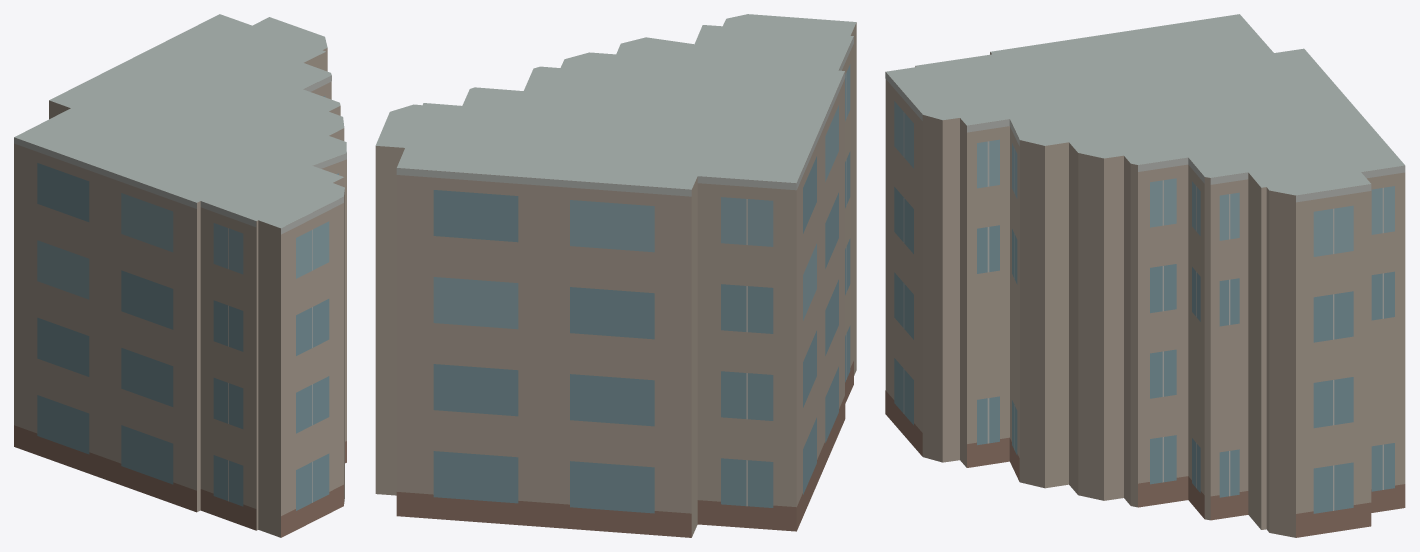
File: survey-upis-32625731.glb
3 renders of one model, left to right at view 1: azimuth 30°, elevation 25°; view 2: azimuth 150°, elevation 25°; view 3: azimuth 270°, elevation 25°, orthographic. The views are drawn at different scales.
Visible parts, largest first — view 1: survey-upis-32625731.tmp; view 2: survey-upis-32625731.tmp; view 3: survey-upis-32625731.tmp.
Boxes of the visible parts, left/top/right/bottom form: survey-upis-32625731.tmp: left=14, top=14, right=346, bottom=537; survey-upis-32625731.tmp: left=375, top=14, right=856, bottom=537; survey-upis-32625731.tmp: left=885, top=14, right=1405, bottom=537.
Bounding box in the file's own units: 13.69 × 12.03 × 16.56.
